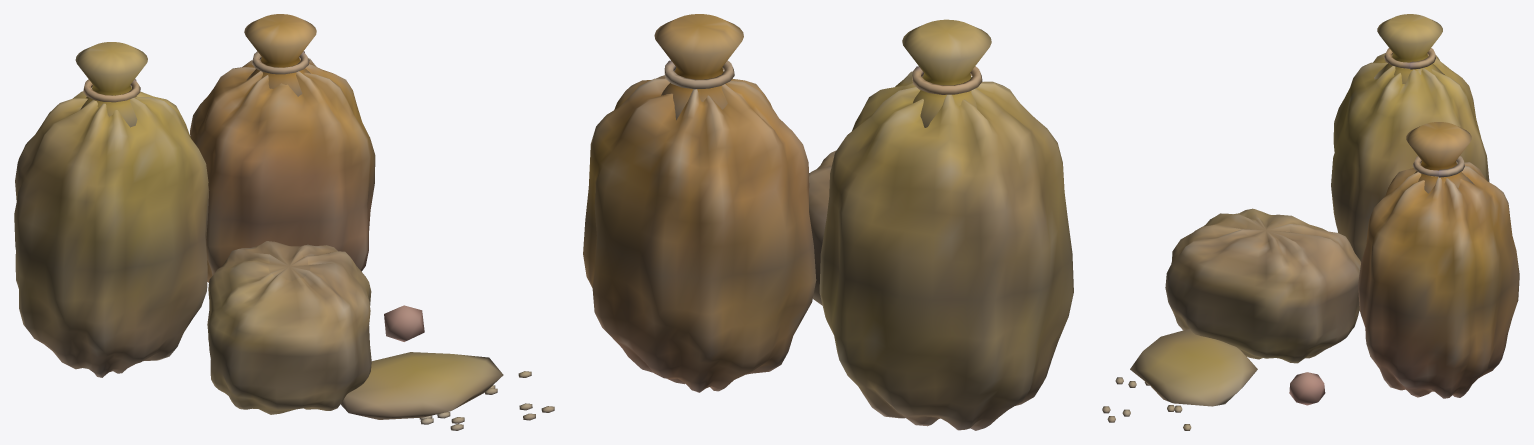
The model's file is erzak_cuvali.glb.
3 views of the same model, side by side, from view 1: azimuth 30°, elevation 25°; view 2: azimuth 150°, elevation 25°; view 3: azimuth 270°, elevation 25° (orthographic). The views are drawn at different scales.
Visible parts, largest first — view 1: erzak_cuvali_LOD0; view 2: erzak_cuvali_LOD0; view 3: erzak_cuvali_LOD0.
Boxes of the visible parts, bbox=[...] form: erzak_cuvali_LOD0: bbox=[14, 14, 554, 430]; erzak_cuvali_LOD0: bbox=[583, 14, 1073, 430]; erzak_cuvali_LOD0: bbox=[1102, 14, 1519, 430].
Size of what is drawn, in the model's own units: 0.9791 by 0.7624 by 1.01.
